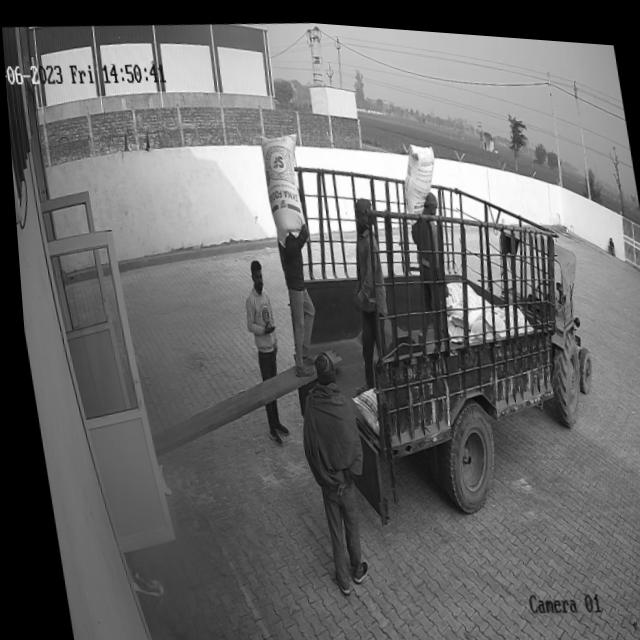sack: (255, 124, 311, 244), (395, 136, 441, 220)
